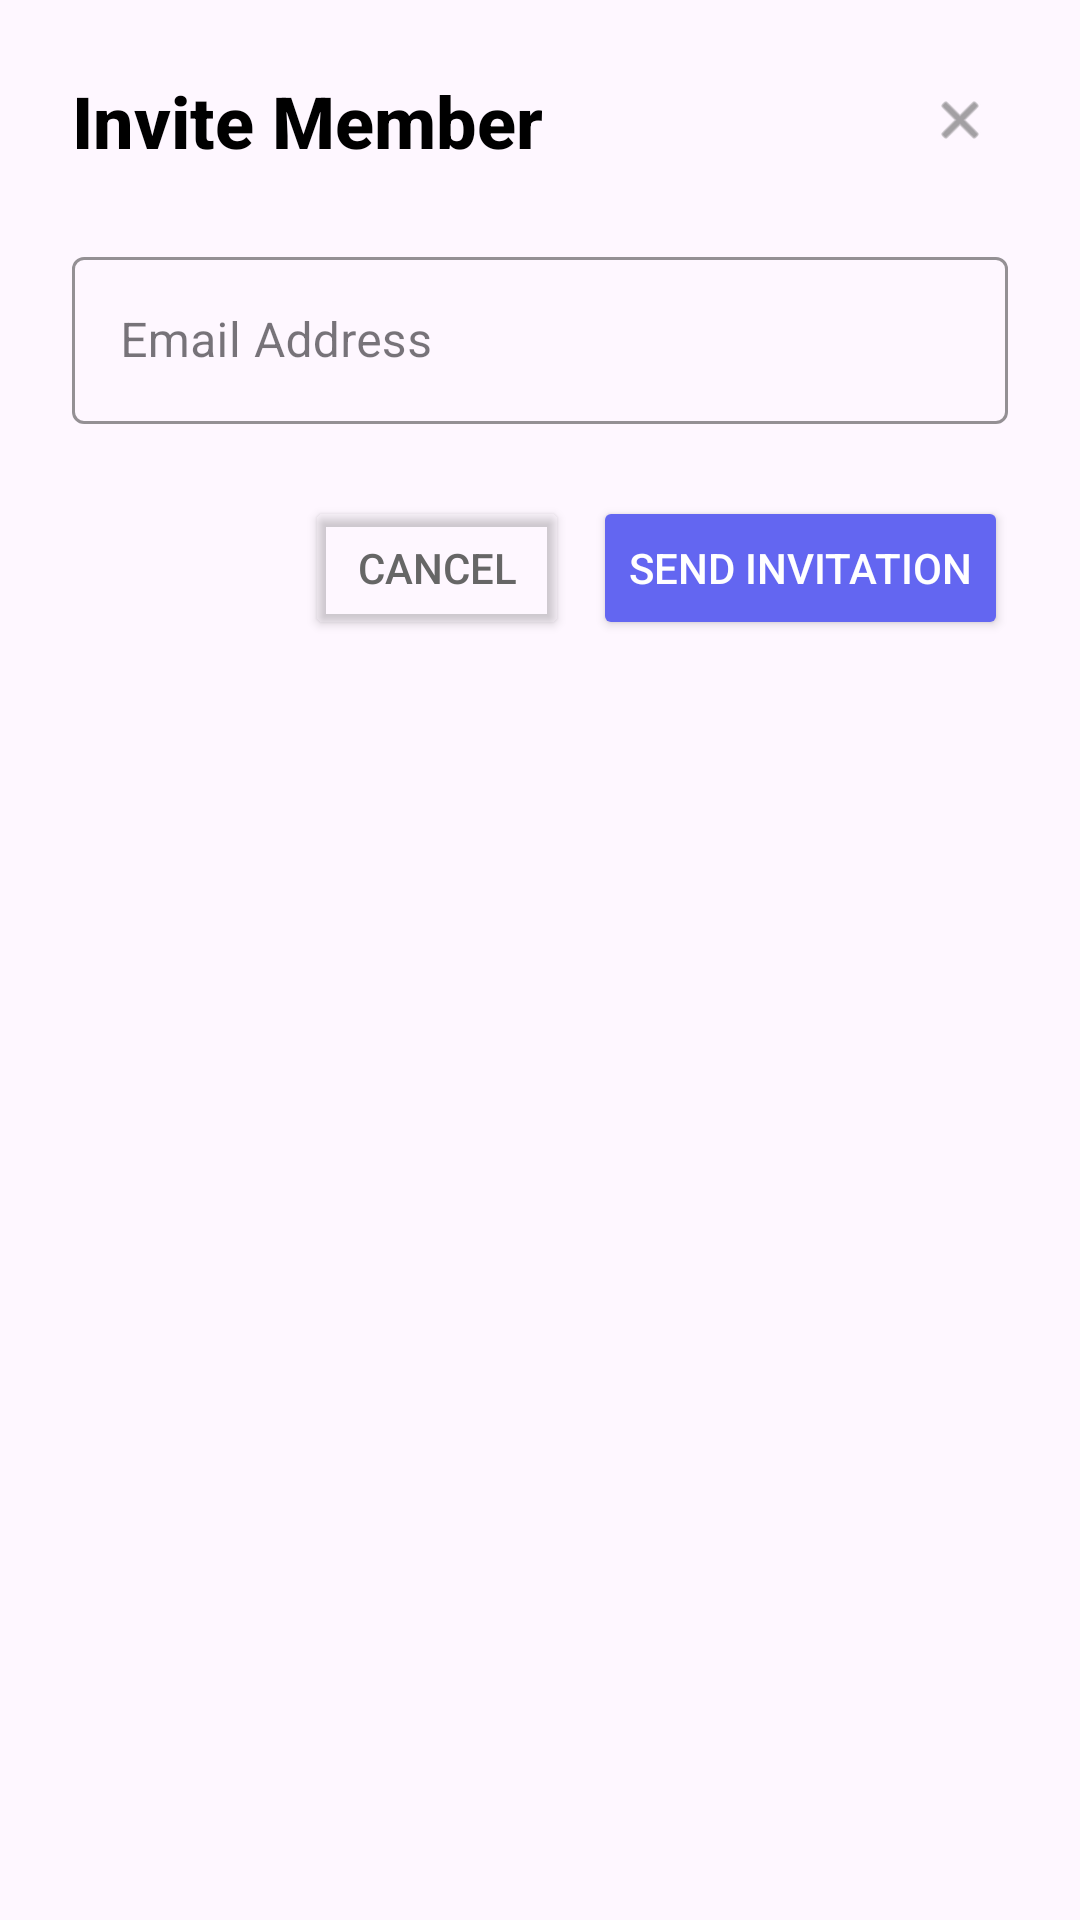

Named icons in this screenshot (1080x1920) and their bounding boxes, [x1=x1, y1=y1, x2=x2, y2=y2]:
close clear cancel: [x1=941, y1=101, x2=979, y2=139]
